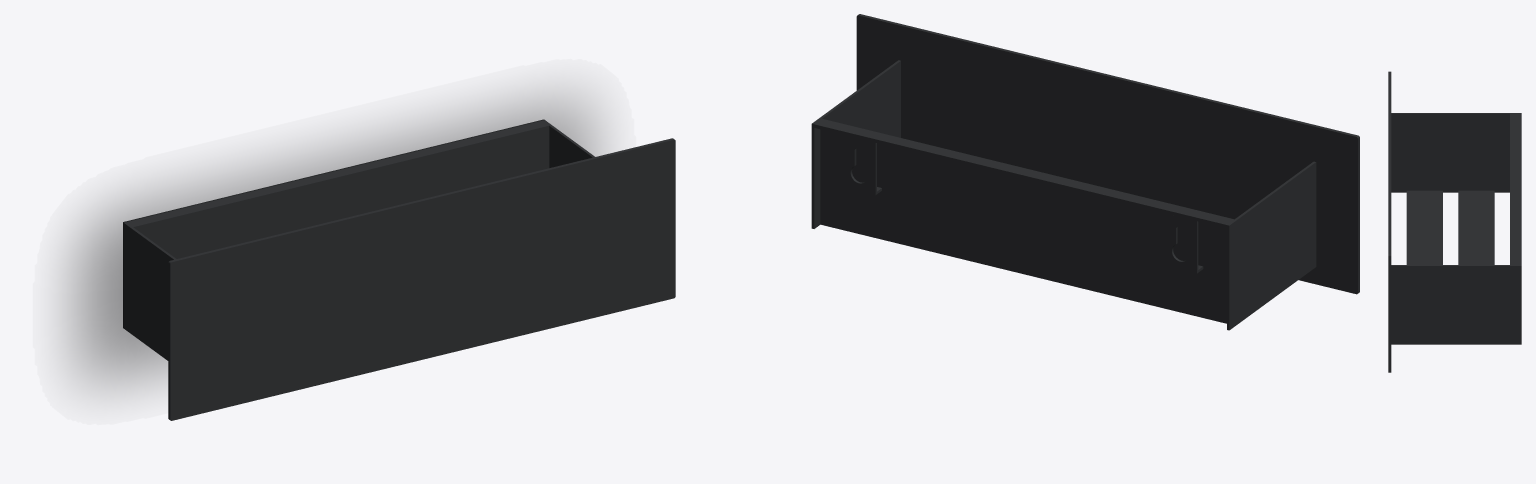
The model's file is skyline-mono.38e8cbec98.ar.glb.
The picture shows the model from 3 angles, left to right: view 1: azimuth 30°, elevation 25°; view 2: azimuth 150°, elevation 25°; view 3: azimuth 270°, elevation 25°; orthographic projection. The views are drawn at different scales.
Visible parts, largest first — view 1: NAUO1, object 2; view 2: NAUO1; view 3: NAUO1.
Part boxes in pixels (<box>): NAUO1: <box>123,119,675,420</box>; object 2: <box>66,96,602,387</box>; NAUO1: <box>811,14,1359,330</box>; NAUO1: <box>1388,71,1521,372</box>.
Bounding box in the file's own units: 0.38 × 0.17 × 0.092.
Materials: 2 (1 with a texture image).
